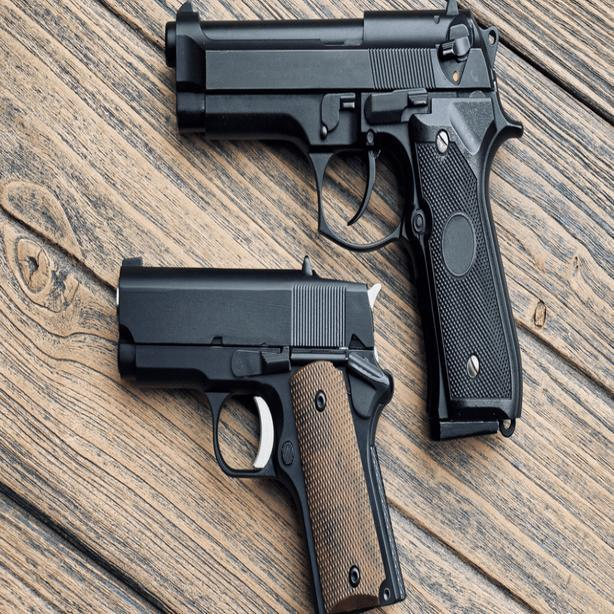Firearm: (133, 0, 558, 454), (106, 248, 421, 614)
